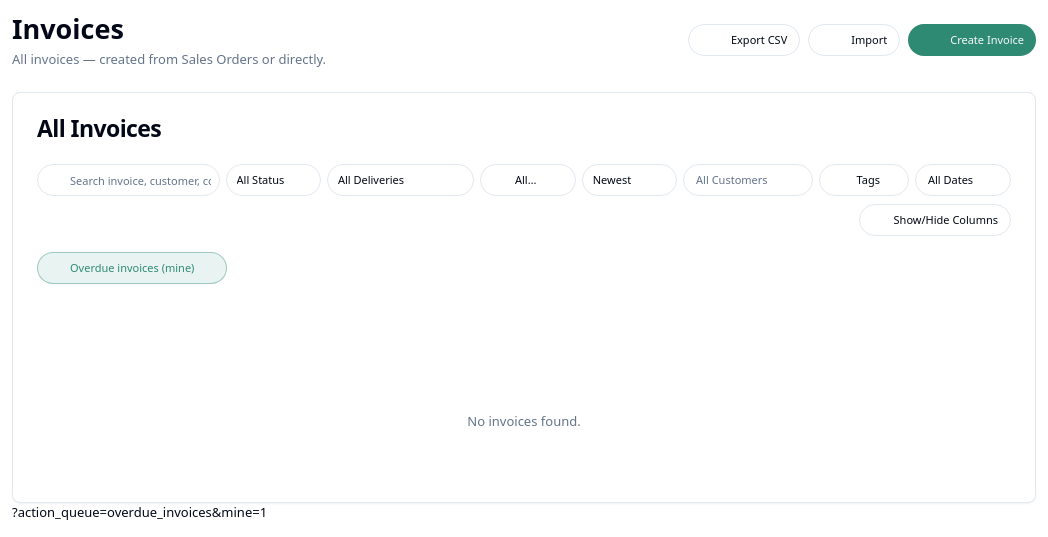
Test: #365 — list pages honour action_queue from a cockpit tile › Invoices list forwards the queue filter and clears it with the chip
Expected: the element with test id "action-queue-filter-chip" shows "(mine)", x1=70 y1=260 x2=194 y2=275
Click the button with test id "action-queue-filter-chip-remove". click: coordinates (211, 268)
box: x1=202 y1=259 x2=220 y2=277
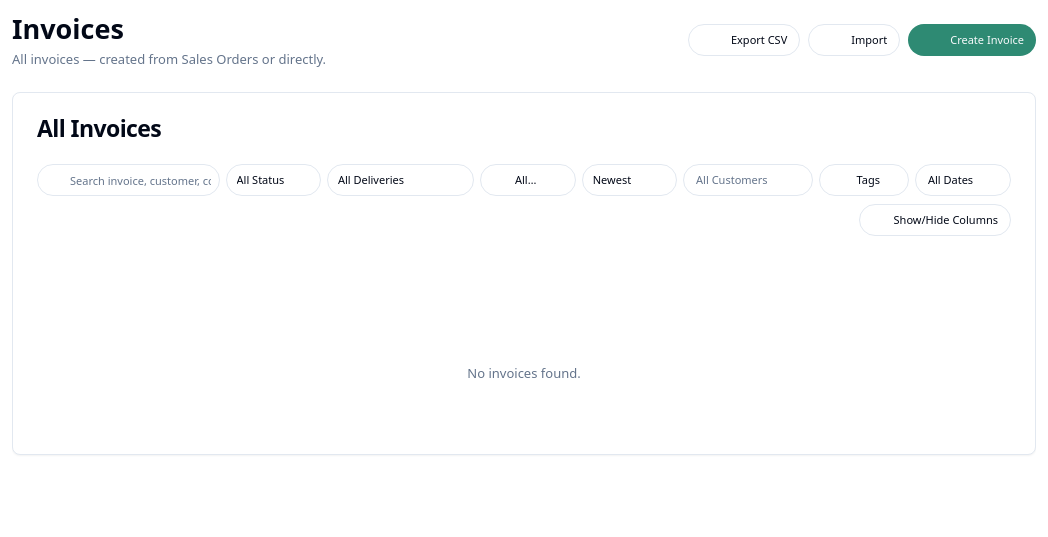
Expected: the element with test id "action-queue-filter-chip" is gone
Expected: the text with test id "location-search" no longer shows "action_queue"
